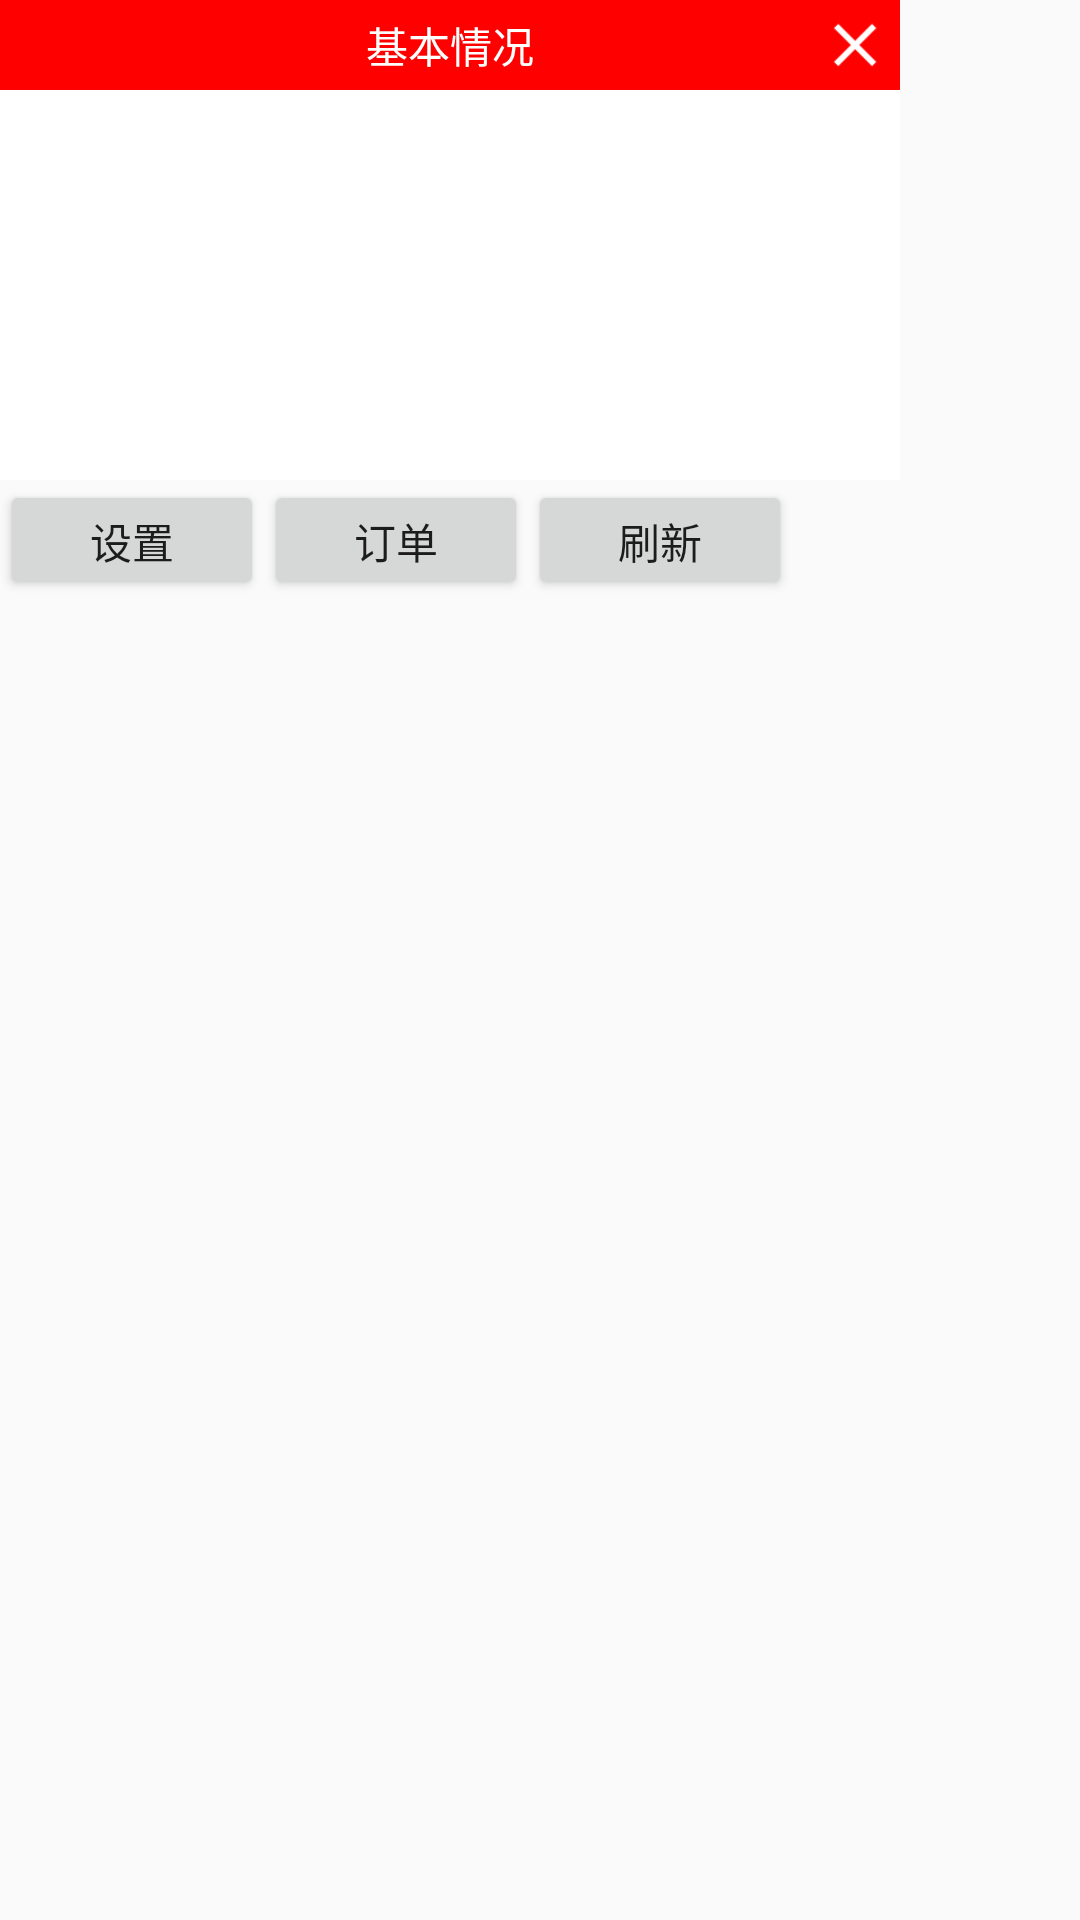

Icon click points for this 1080 × 1920 phone screenshot, format point (x, y):
cancle: point (855, 45)
